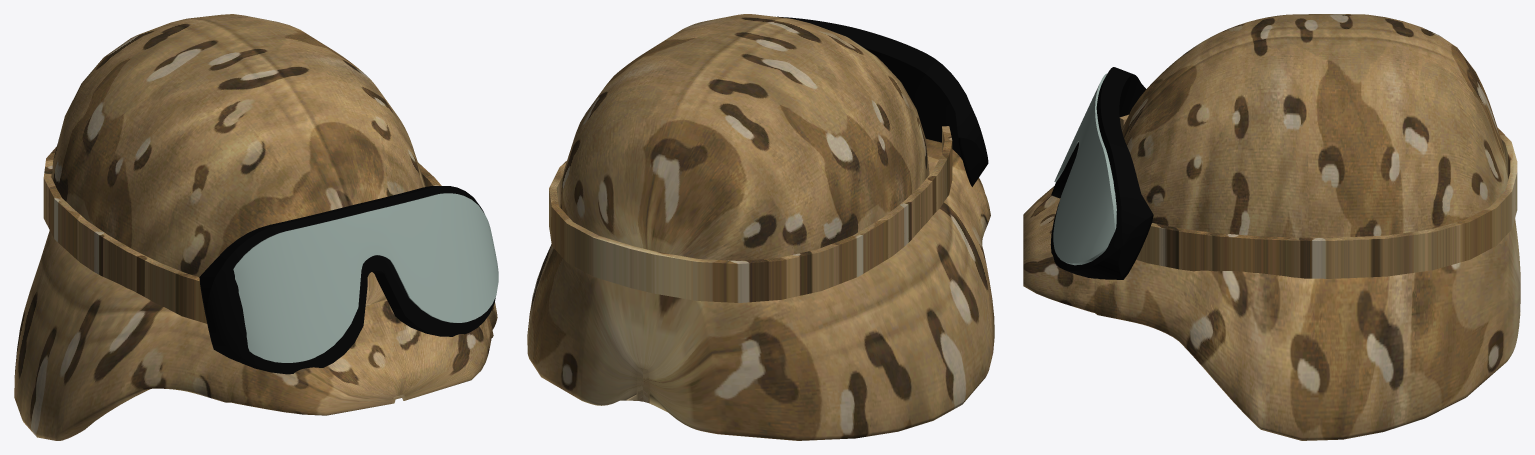
File: helmet.FBX
3 renders of one model, left to right at view 1: azimuth 30°, elevation 25°; view 2: azimuth 150°, elevation 25°; view 3: azimuth 270°, elevation 25°, orthographic. The views are drawn at different scales.
Visible parts, largest first — view 1: hair, goggles, lens, strap; view 2: hair, strap, lens; view 3: hair, strap, lens, goggles.
Boxes of the visible parts, <box> form: hair: <box>14,14,497,440</box>; goggles: <box>233,193,498,362</box>; lens: <box>199,186,495,374</box>; strap: <box>43,146,441,323</box>; hair: <box>527,14,994,440</box>; strap: <box>549,126,952,302</box>; lens: <box>777,16,988,186</box>; hair: <box>1023,14,1520,440</box>; strap: <box>1119,114,1517,278</box>; lens: <box>1050,67,1153,279</box>; goggles: <box>1053,73,1116,265</box>.
Size of the model in its own units: 10.49 by 7.68 by 11.04.
